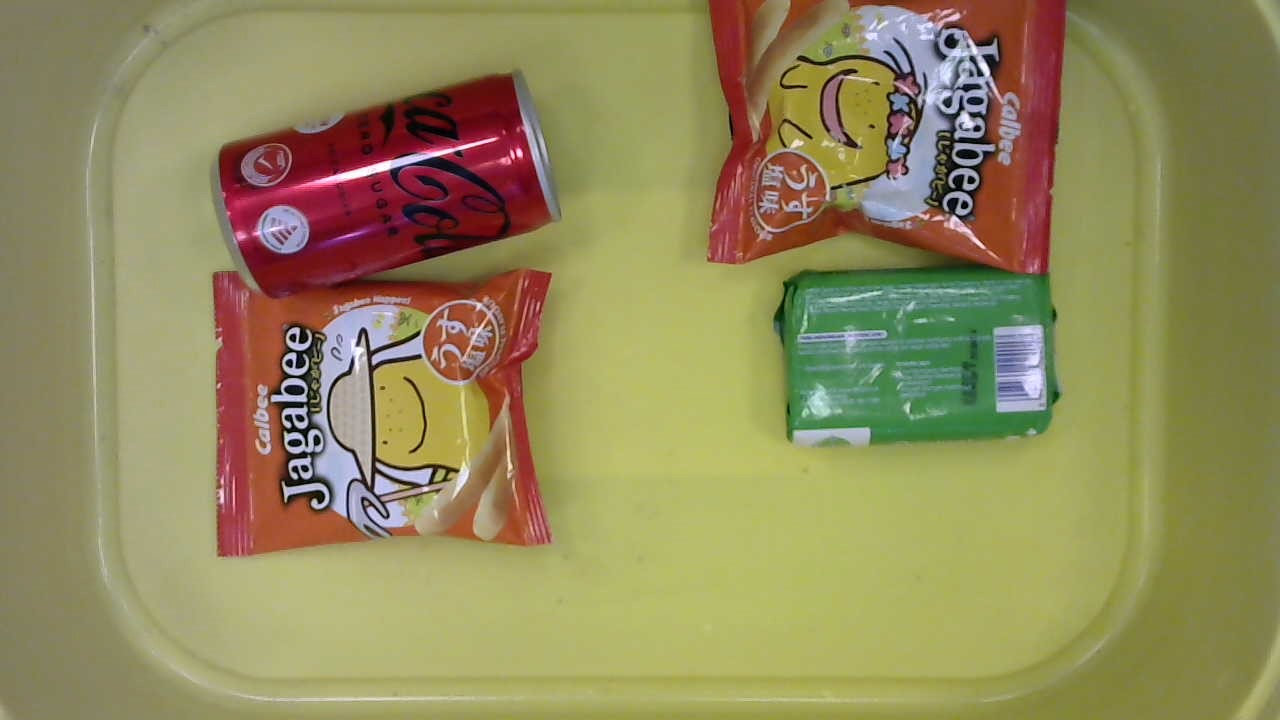JagabeeFarmer: (185, 262, 560, 565)
